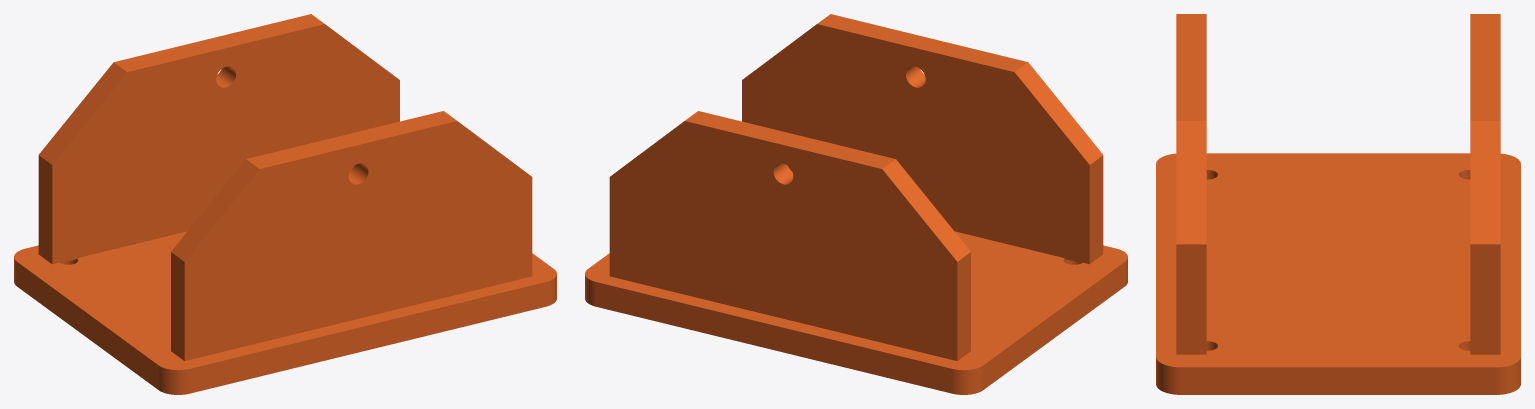
3 renders of one model, left to right at view 1: azimuth 30°, elevation 25°; view 2: azimuth 150°, elevation 25°; view 3: azimuth 270°, elevation 25°, orthographic. The views are drawn at different scales.
Parts seen in each view (by area): view 1: cradle_0; view 2: cradle_0; view 3: cradle_0.
Part boxes in pixels (left/top/right/bottom): cradle_0: left=14, top=14, right=556, bottom=394; cradle_0: left=585, top=14, right=1127, bottom=394; cradle_0: left=1156, top=14, right=1520, bottom=394.
Bounding box in the file's own units: 100 × 48 × 72.
